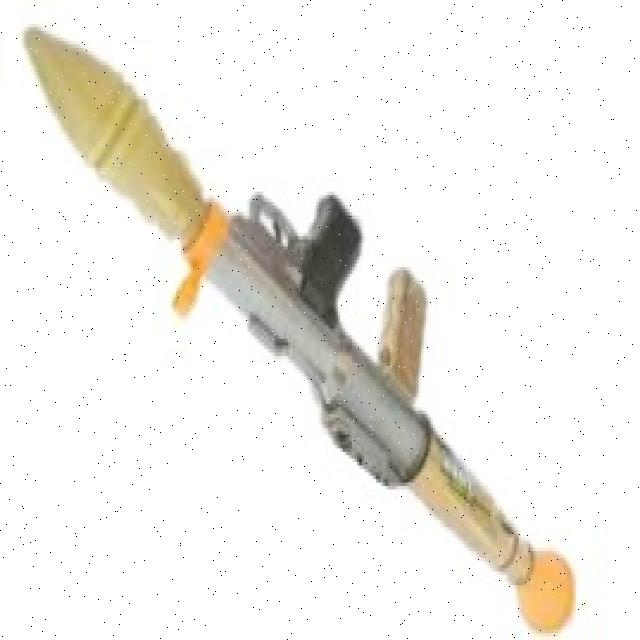bazooka: (20, 20, 582, 640)
